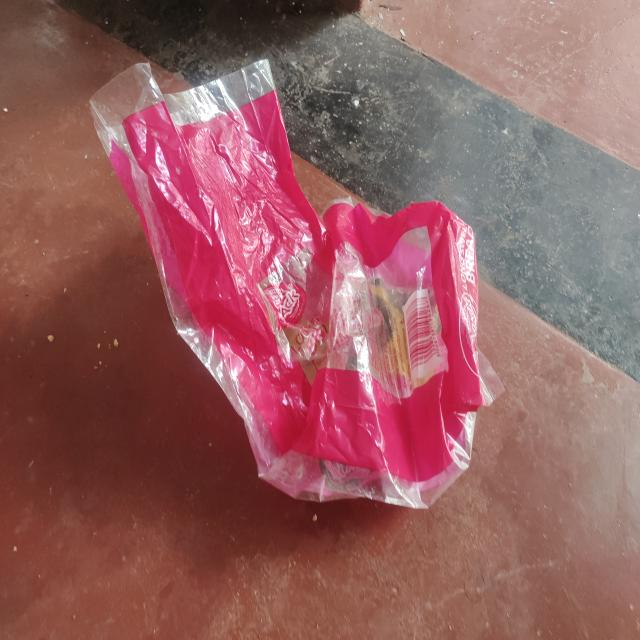plastic: (82, 52, 510, 524)
